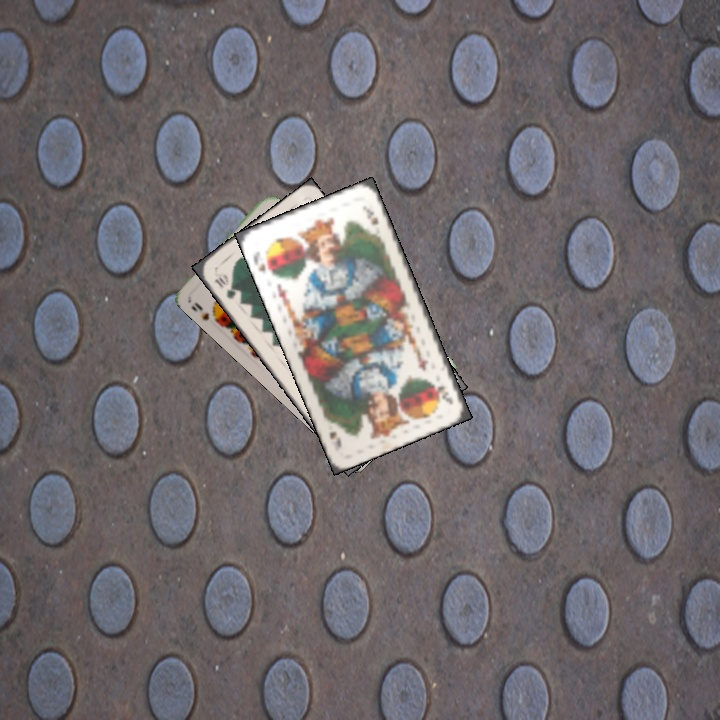G10: (210, 269, 238, 302)
S9: (190, 298, 220, 325)
SK: (433, 382, 456, 408), (249, 246, 269, 275)
